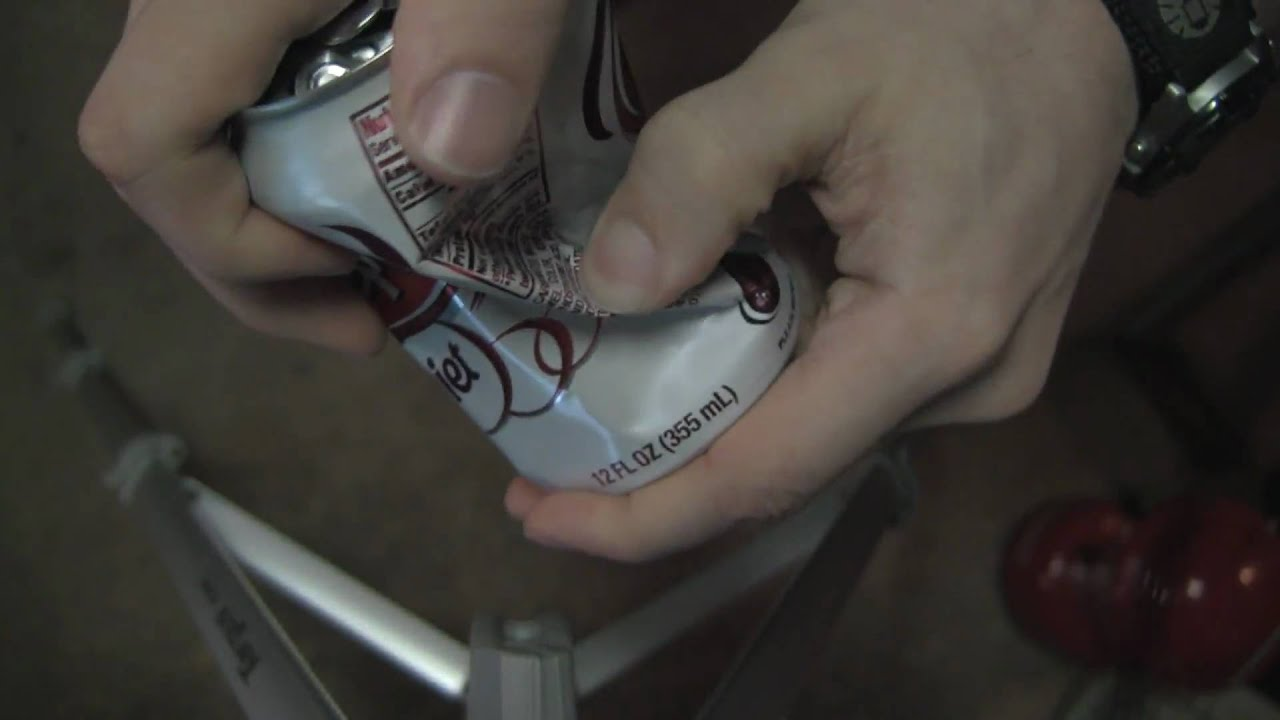can: (221, 1, 802, 498)
